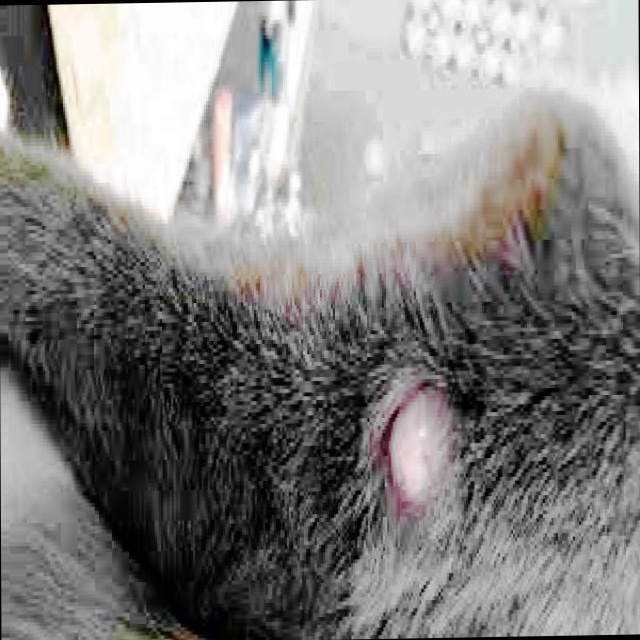lump_and_bump: (374, 374, 455, 518)
